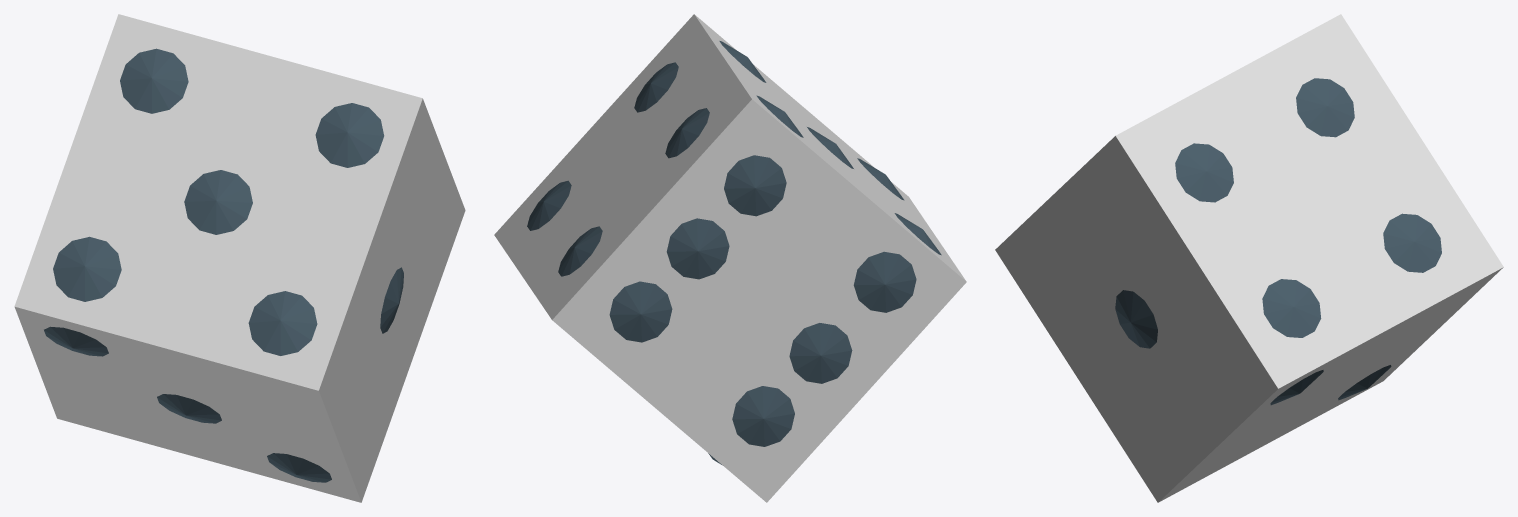
Rendered from dice-license-fu7X6acU.glb.
3 views of the same model, side by side, from view 1: azimuth 30°, elevation 25°; view 2: azimuth 150°, elevation 25°; view 3: azimuth 270°, elevation 25° (orthographic). The views are drawn at different scales.
Parts seen in each view (by area): view 1: group1803577051, group187722911, group1816984992, group744808136, group2104192271, group1790529872, group1169459906, group1911077456, group1624765095, group778429037; view 2: group1803577051, group163436969, group1828084538, group2040630751, group1027847090, group1065275912, group1588040553, group1801760184, group55803180, group1718023282, group338561621; view 3: group1803577051, group1801760184, group1718023282, group338561621, group55803180, group778429037.
Boxes of the visible parts, x1=… form: group1803577051: x1=14, y1=14, x2=465, y2=502; group187722911: x1=53, y1=236, x2=121, y2=301; group1816984992: x1=120, y1=48, x2=188, y2=113; group744808136: x1=184, y1=170, x2=252, y2=234; group2104192271: x1=315, y1=103, x2=384, y2=167; group1790529872: x1=248, y1=291, x2=317, y2=355; group1169459906: x1=157, y1=394, x2=221, y2=423; group1911077456: x1=44, y1=326, x2=108, y2=356; group1624765095: x1=267, y1=453, x2=331, y2=482; group778429037: x1=380, y1=267, x2=403, y2=333; group1803577051: x1=494, y1=14, x2=966, y2=502; group163436969: x1=724, y1=155, x2=786, y2=216; group1828084538: x1=666, y1=218, x2=729, y2=279; group2040630751: x1=609, y1=281, x2=672, y2=342; group1027847090: x1=732, y1=386, x2=794, y2=446; group1065275912: x1=853, y1=251, x2=916, y2=312; group1588040553: x1=789, y1=323, x2=852, y2=383; group1801760184: x1=634, y1=62, x2=678, y2=112; group55803180: x1=558, y1=226, x2=602, y2=276; group1718023282: x1=665, y1=108, x2=709, y2=158; group338561621: x1=527, y1=180, x2=571, y2=230; group1803577051: x1=995, y1=14, x2=1503, y2=502; group1801760184: x1=1175, y1=143, x2=1233, y2=202; group1718023282: x1=1296, y1=78, x2=1354, y2=137; group338561621: x1=1262, y1=279, x2=1321, y2=337; group55803180: x1=1383, y1=213, x2=1441, y2=272; group778429037: x1=1115, y1=290, x2=1157, y2=348.
Size of the model in its own units: 0.4802 by 0.4309 by 0.47.
